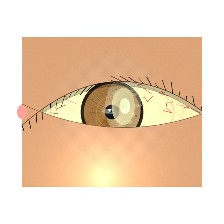corneal_ulcer: (93, 82, 153, 131)
